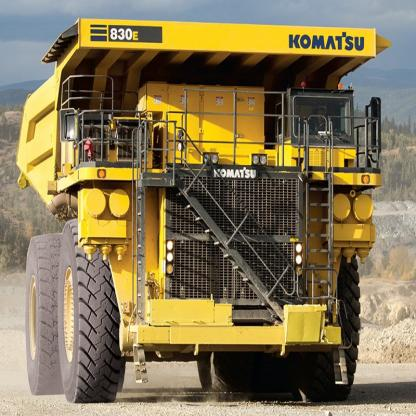dump_truck: (16, 11, 384, 400)
